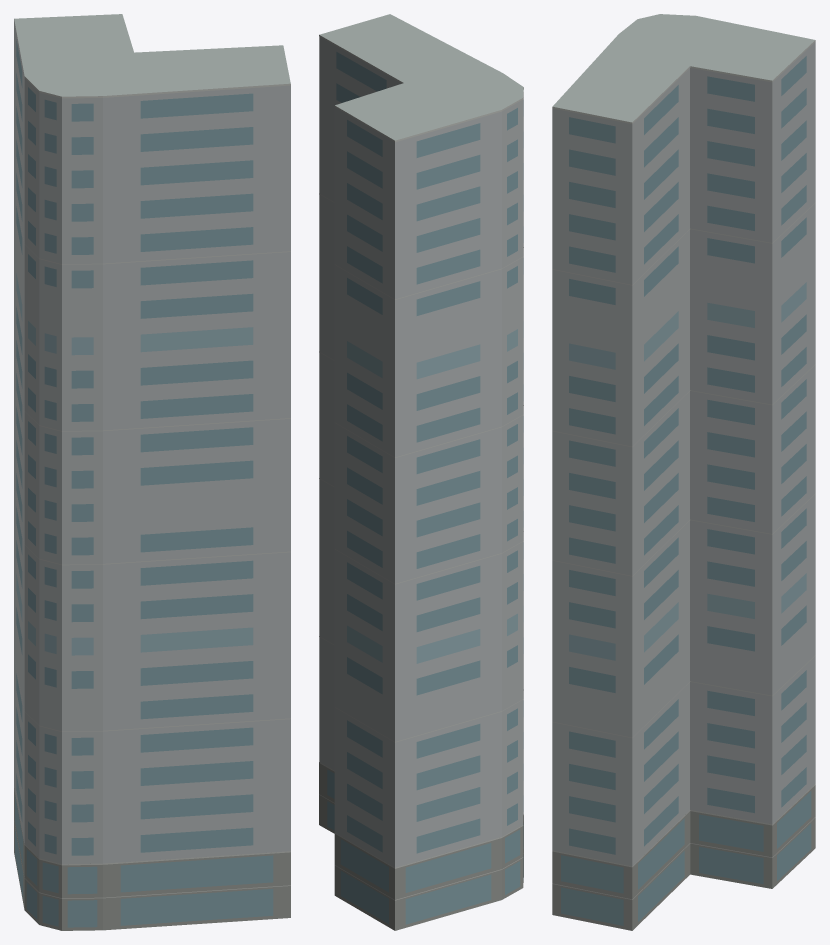
File: residential-2fdeea90-0b2d-46e8-986e-5f3fe6403ce1.glb
The picture shows the model from 3 angles, left to right: view 1: azimuth 30°, elevation 25°; view 2: azimuth 150°, elevation 25°; view 3: azimuth 270°, elevation 25°; orthographic projection. The views are drawn at different scales.
Parts seen in each view (by area): view 1: residential-2fdeea90-0b2d-46e8-986e-5f3fe6403ce1.tmp; view 2: residential-2fdeea90-0b2d-46e8-986e-5f3fe6403ce1.tmp; view 3: residential-2fdeea90-0b2d-46e8-986e-5f3fe6403ce1.tmp.
Boxes of the visible parts, bbox=[...] form: residential-2fdeea90-0b2d-46e8-986e-5f3fe6403ce1.tmp: bbox=[14, 14, 290, 930]; residential-2fdeea90-0b2d-46e8-986e-5f3fe6403ce1.tmp: bbox=[319, 14, 523, 930]; residential-2fdeea90-0b2d-46e8-986e-5f3fe6403ce1.tmp: bbox=[552, 14, 815, 930].
Size of the model in its own units: 32.57 by 113 by 33.35.
